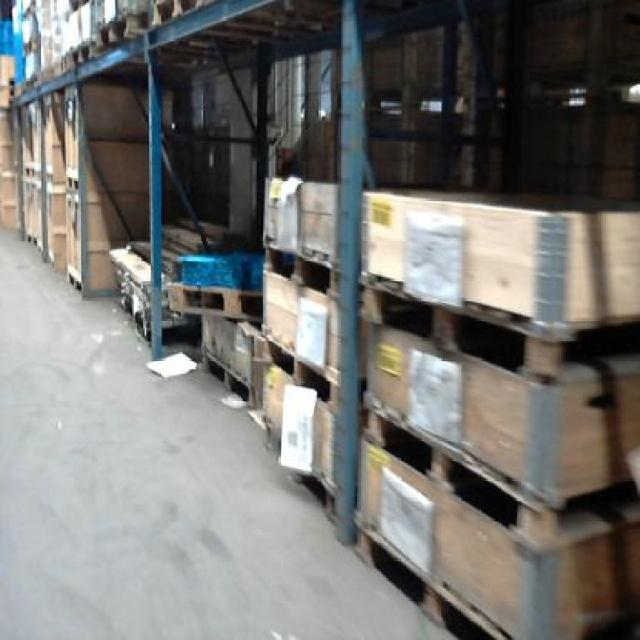pallet: (340, 379, 630, 563), (350, 256, 562, 396), (347, 492, 544, 638), (254, 326, 348, 424), (256, 230, 346, 309), (191, 336, 265, 418), (156, 278, 270, 323)
